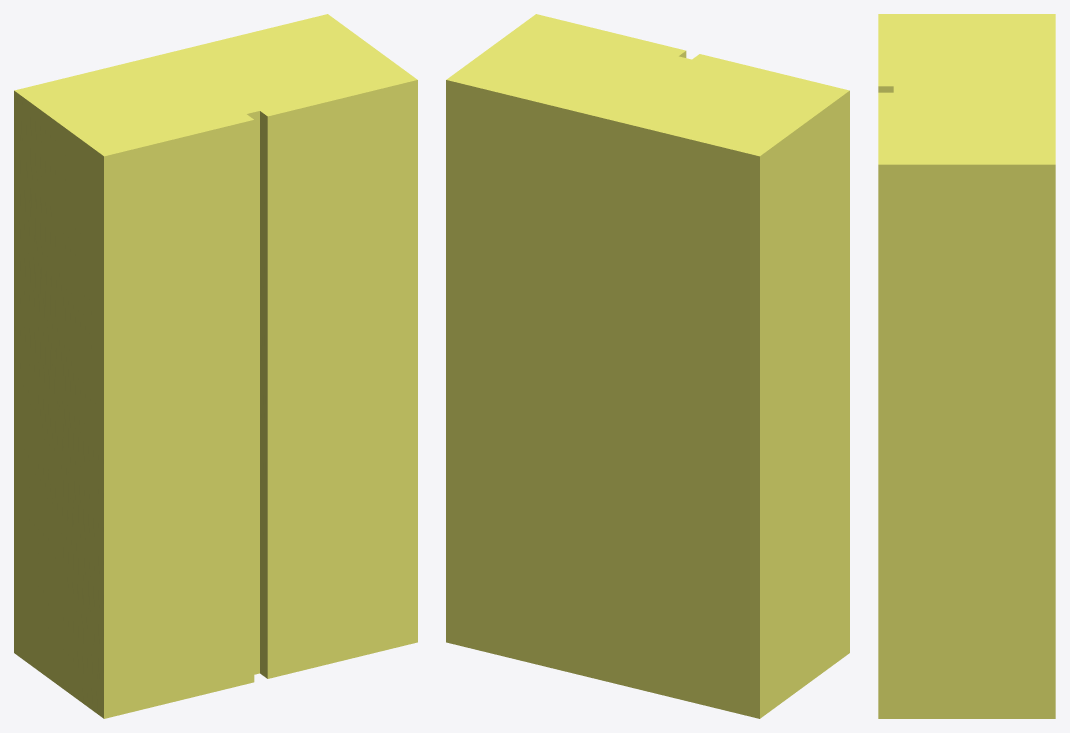
File: ai.armoire.2'.glb
3 views of the same model, side by side, from view 1: azimuth 30°, elevation 25°; view 2: azimuth 150°, elevation 25°; view 3: azimuth 270°, elevation 25° (orthographic).
Visible parts, largest first — view 1: imagetostl_mesh1, imagetostl_mesh6, imagetostl_mesh2, imagetostl_mesh0, imagetostl_mesh9, imagetostl_mesh7; view 2: imagetostl_mesh4, imagetostl_mesh2, imagetostl_mesh0; view 3: imagetostl_mesh3, imagetostl_mesh0.
Part boxes in pixels (x1,y1,x2,y2): imagetostl_mesh1: [267, 80, 417, 678]; imagetostl_mesh6: [104, 120, 254, 718]; imagetostl_mesh2: [14, 90, 103, 718]; imagetostl_mesh0: [14, 14, 417, 156]; imagetostl_mesh9: [260, 111, 267, 678]; imagetostl_mesh7: [247, 111, 259, 674]; imagetostl_mesh4: [446, 80, 759, 718]; imagetostl_mesh2: [760, 90, 849, 718]; imagetostl_mesh0: [446, 14, 849, 156]; imagetostl_mesh3: [878, 164, 1055, 718]; imagetostl_mesh0: [878, 14, 1055, 164].
Size of the model in its own units: 0.9189 by 1.57 by 0.4567.
